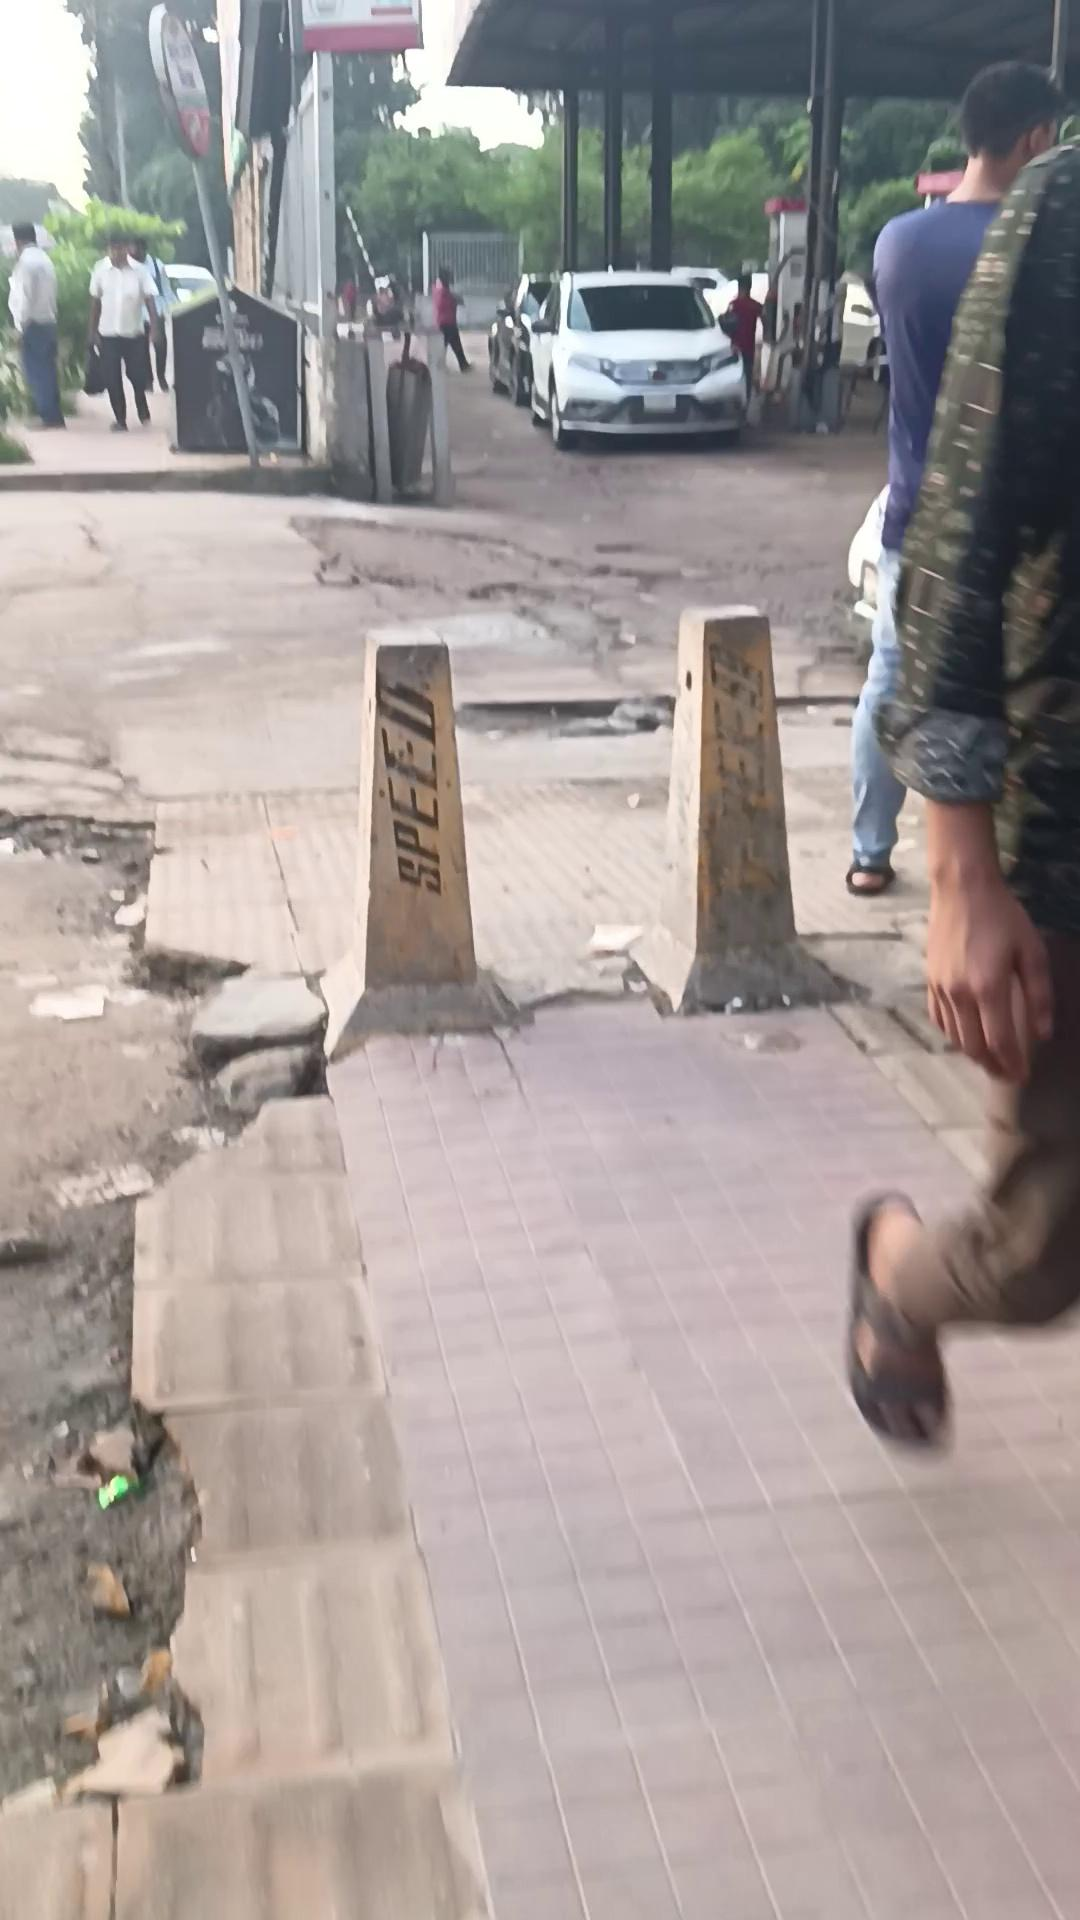Car: (506, 256, 758, 451)
Muddy road: (843, 138, 1079, 1453), (84, 229, 164, 431), (7, 220, 65, 429), (128, 235, 173, 393), (725, 273, 764, 400), (433, 264, 473, 373), (367, 276, 404, 340)
Potted-plant: (4, 708, 1077, 1916)
Rickshaw: (320, 611, 567, 1047), (628, 600, 856, 1015)
